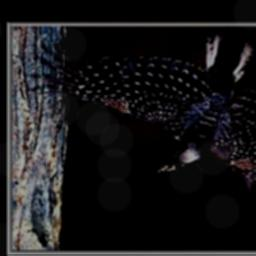Woodpecker: (37, 30, 256, 206)
